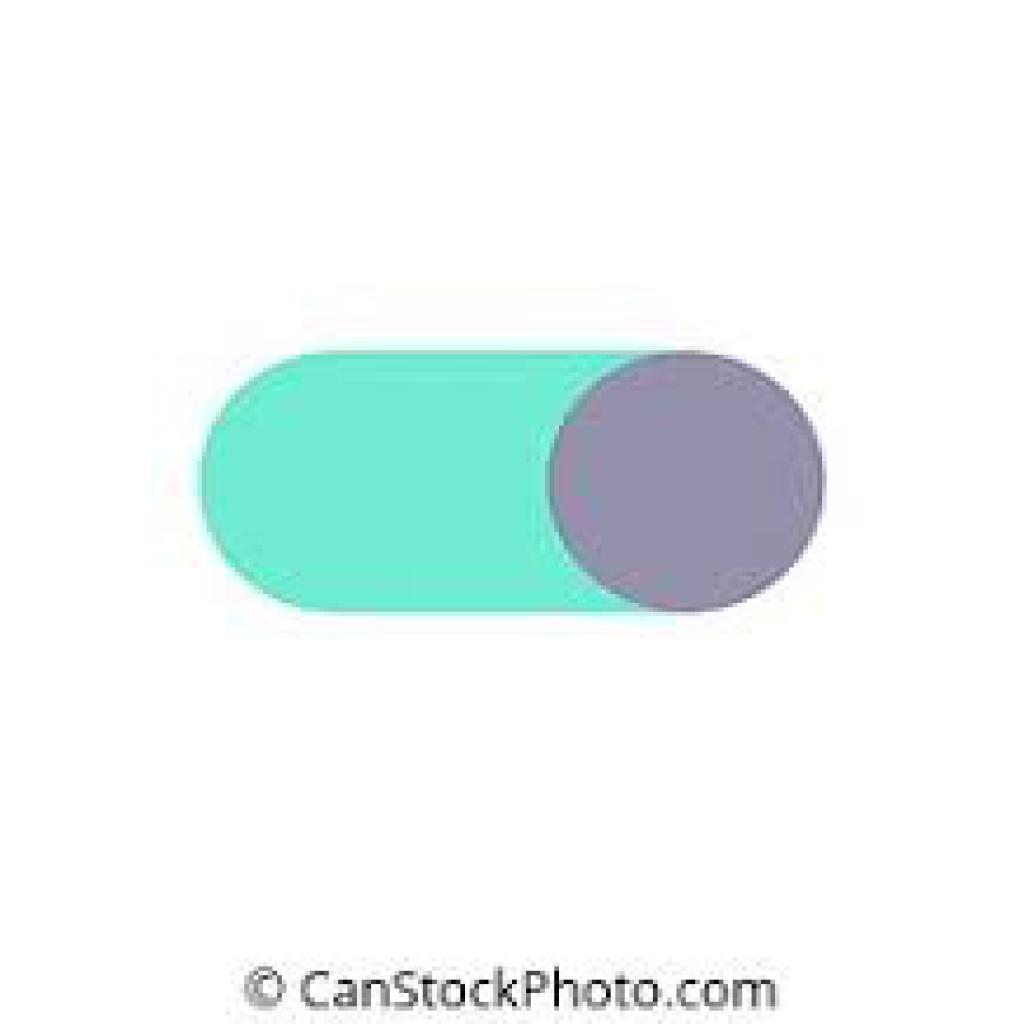switch: (201, 349, 828, 614)
